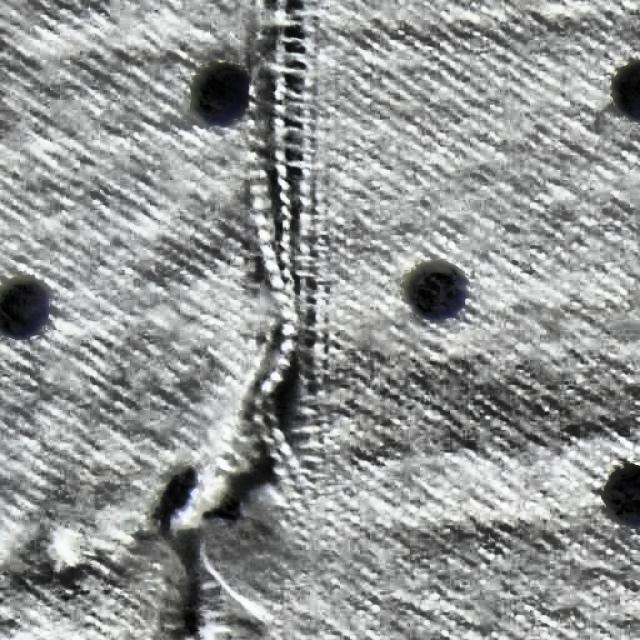gray stitch: (138, 1, 341, 639)
